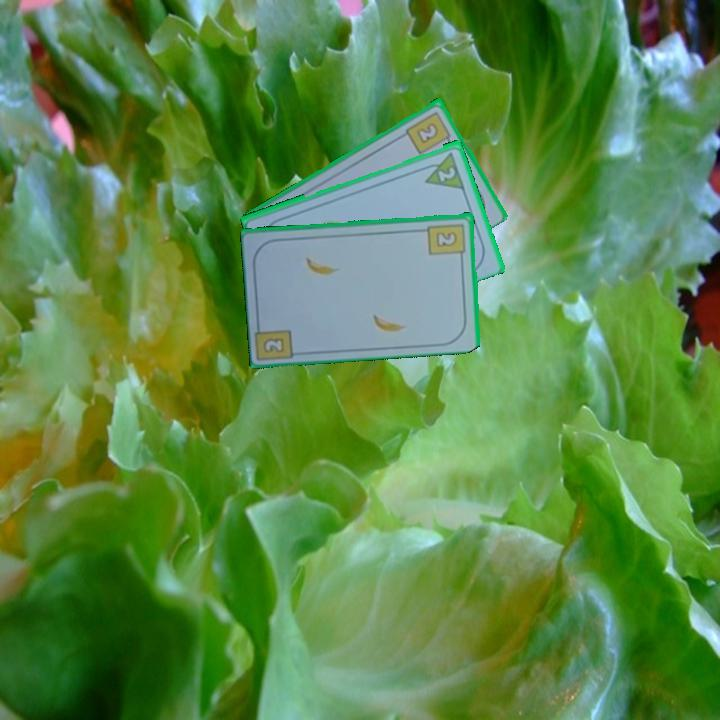2b: (402, 107, 455, 157), (425, 220, 469, 262), (259, 334, 287, 356)
2p: (434, 163, 459, 184)
